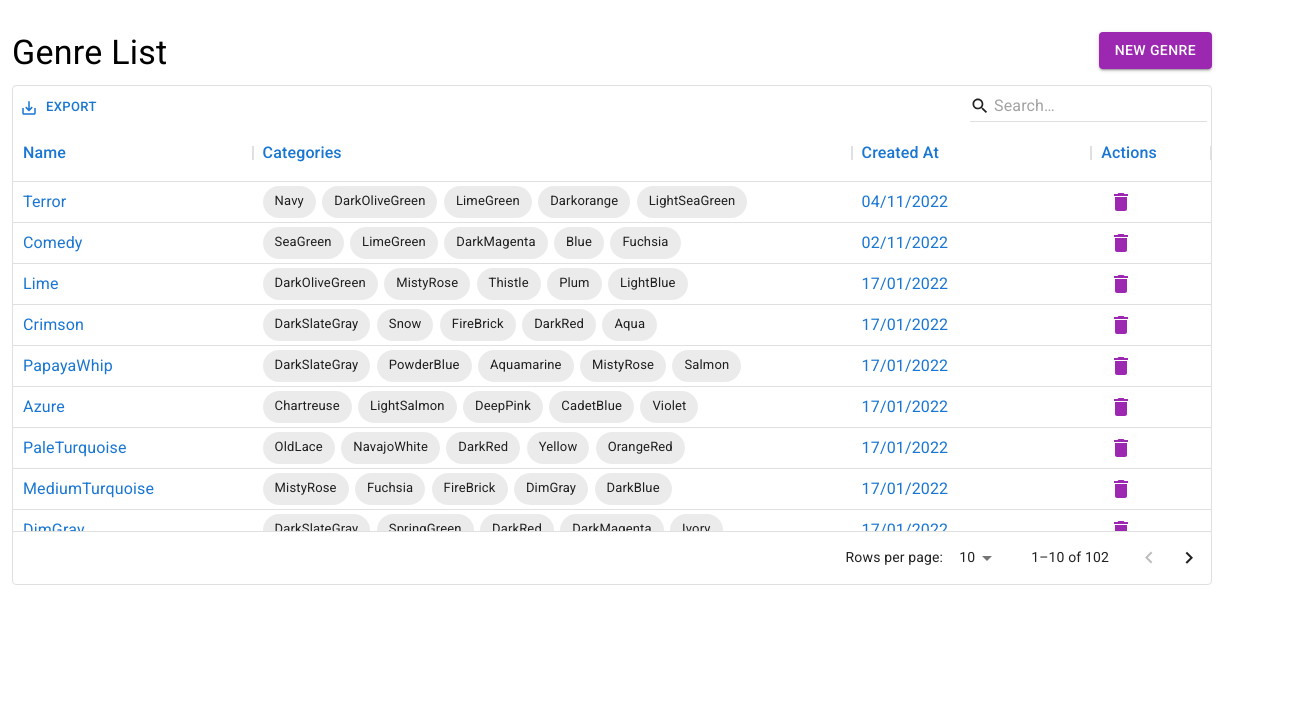
Test case: GenreList › should handle delete category error
Check: the text "Terror" is shown, box [23,190,66,214]
What coordinates should you click on to do the following:
click the button with test id "delete-button" in the row of "Terror"
I would click on:
 (1121, 202)
Its box is [1101,182,1141,222].
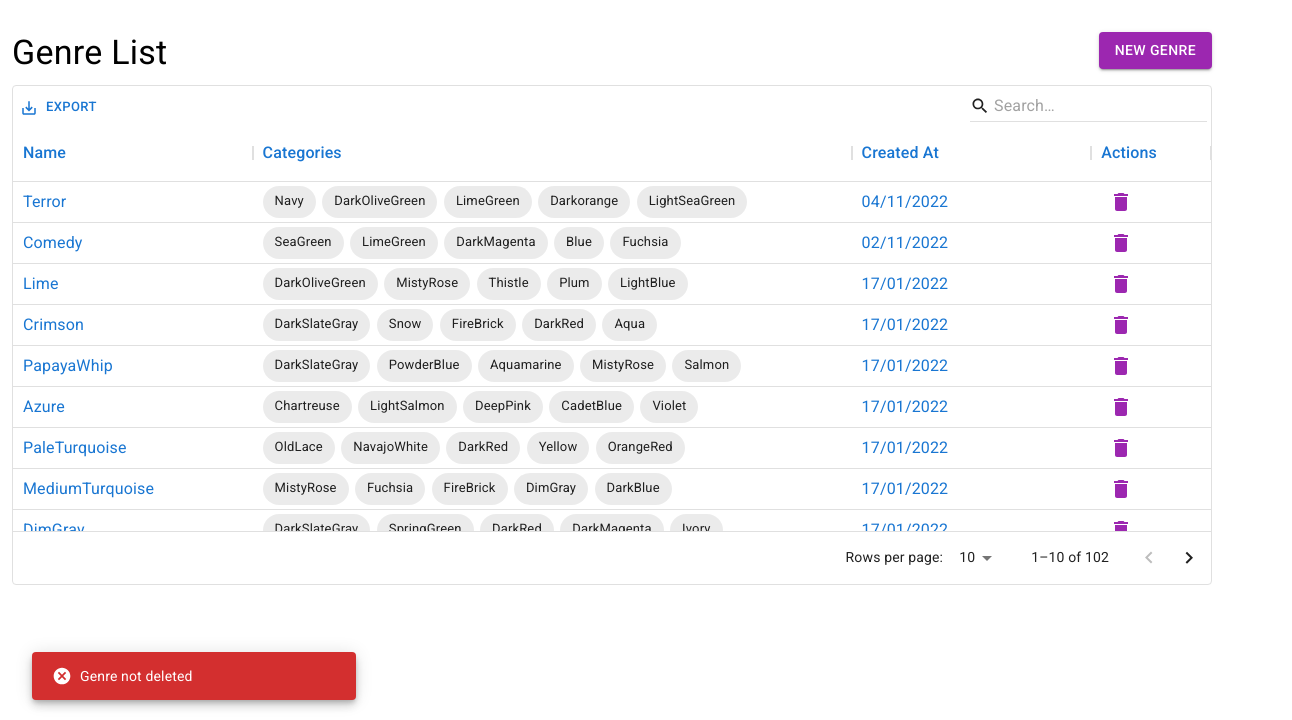
Check: the text "Genre not deleted" is shown, box [52,666,193,686]
